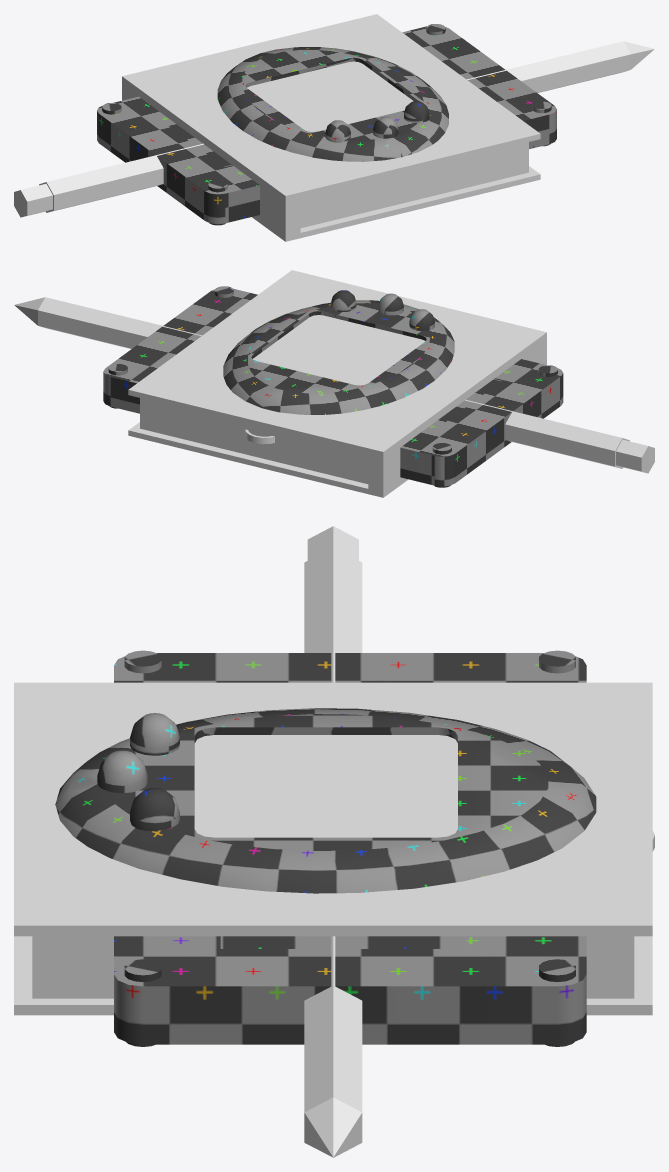
File: Cassette .glb
3 renders of one model, top to bottom at view 1: azimuth 30°, elevation 25°; view 2: azimuth 150°, elevation 25°; view 3: azimuth 270°, elevation 25°, orthographic. The views are drawn at different scales.
Visible parts, largest first — view 1: Cube, Model, Tamogotchi, Pencil, LCD, Button0, Button1, Button2; view 2: Cube, Model, Tamogotchi, Pencil, LCD, Button1, Button0, Button2; view 3: Cube, Model, Tamogotchi, LCD, Pencil, Button2, Button1, Button0.
Part boxes in pixels (left/top/right/bottom): Cube: left=122, top=14, right=540, bottom=241; Model: left=97, top=24, right=556, bottom=225; Tamogotchi: left=217, top=47, right=448, bottom=161; Pencil: left=14, top=41, right=654, bottom=217; LCD: left=247, top=61, right=413, bottom=131; Button0: left=325, top=120, right=350, bottom=142; Button1: left=373, top=116, right=398, bottom=138; Button2: left=404, top=101, right=429, bottom=122; Cube: left=128, top=270, right=546, bottom=497; Model: left=103, top=286, right=563, bottom=487; Tamogotchi: left=223, top=300, right=454, bottom=444; Pencil: left=14, top=297, right=654, bottom=473; LCD: left=252, top=315, right=425, bottom=385; Button1: left=378, top=293, right=403, bottom=315; Button0: left=409, top=309, right=434, bottom=330; Button2: left=331, top=290, right=356, bottom=311; Cube: left=14, top=682, right=652, bottom=1015; Model: left=114, top=650, right=586, bottom=1046; Tamogotchi: left=55, top=708, right=654, bottom=893; LCD: left=194, top=735, right=457, bottom=837; Pencil: left=304, top=526, right=362, bottom=1157; Button2: left=130, top=787, right=179, bottom=831; Button1: left=97, top=750, right=147, bottom=793; Button0: left=130, top=713, right=179, bottom=755.
Size of the model in its own units: 4.97 by 0.5733 by 2.23.
Materials: 4 (3 with a texture image).
